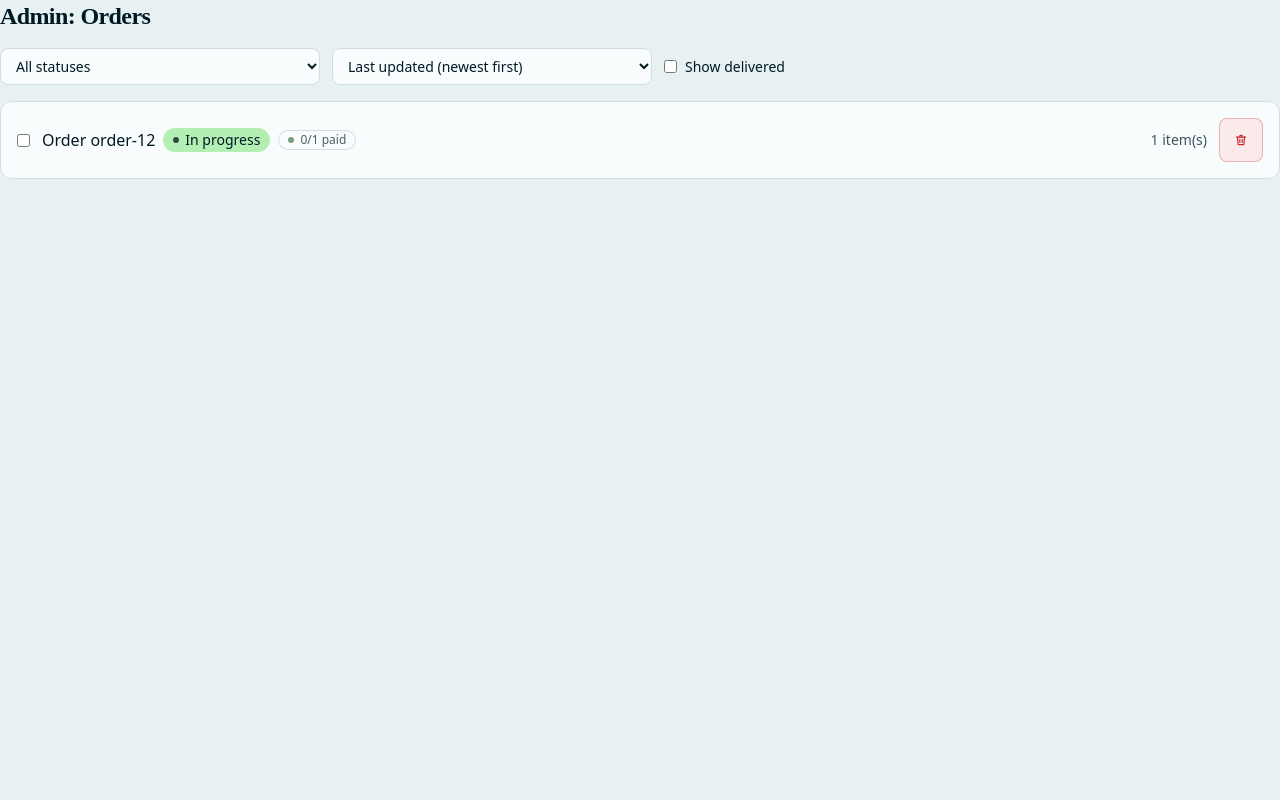
AdminOrdersPage › shows an error message when deleting an order fails
expect the link "Order order-12 In progress 0/1 paid" is shown: met, box [42,128,356,152]
What coordinates should you click on to do the following:
click the button named "Delete"
I would click on:
 (1241, 140)
Its box is [1219,118,1263,162].
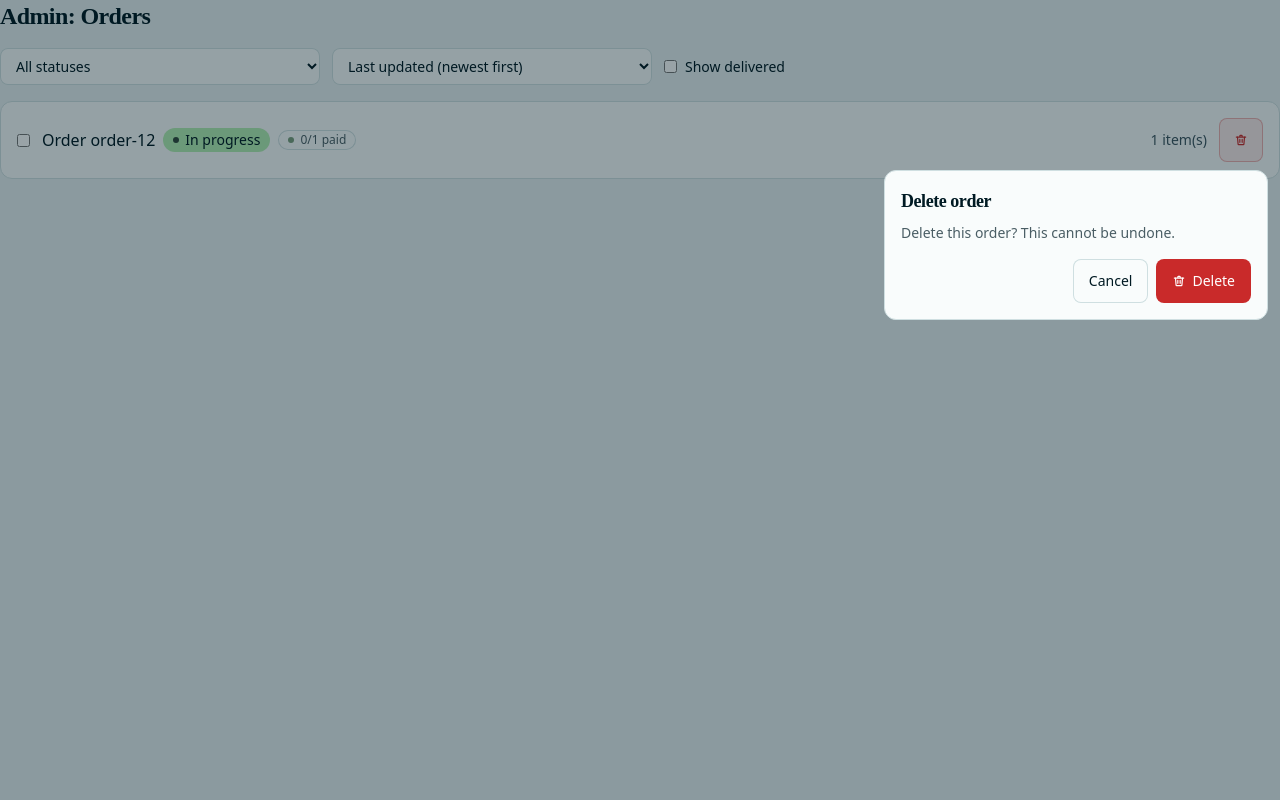
What coordinates should you click on to do the following:
click the button "Delete"
I would click on:
 (1204, 281)
Its box is [1156,259,1251,303].
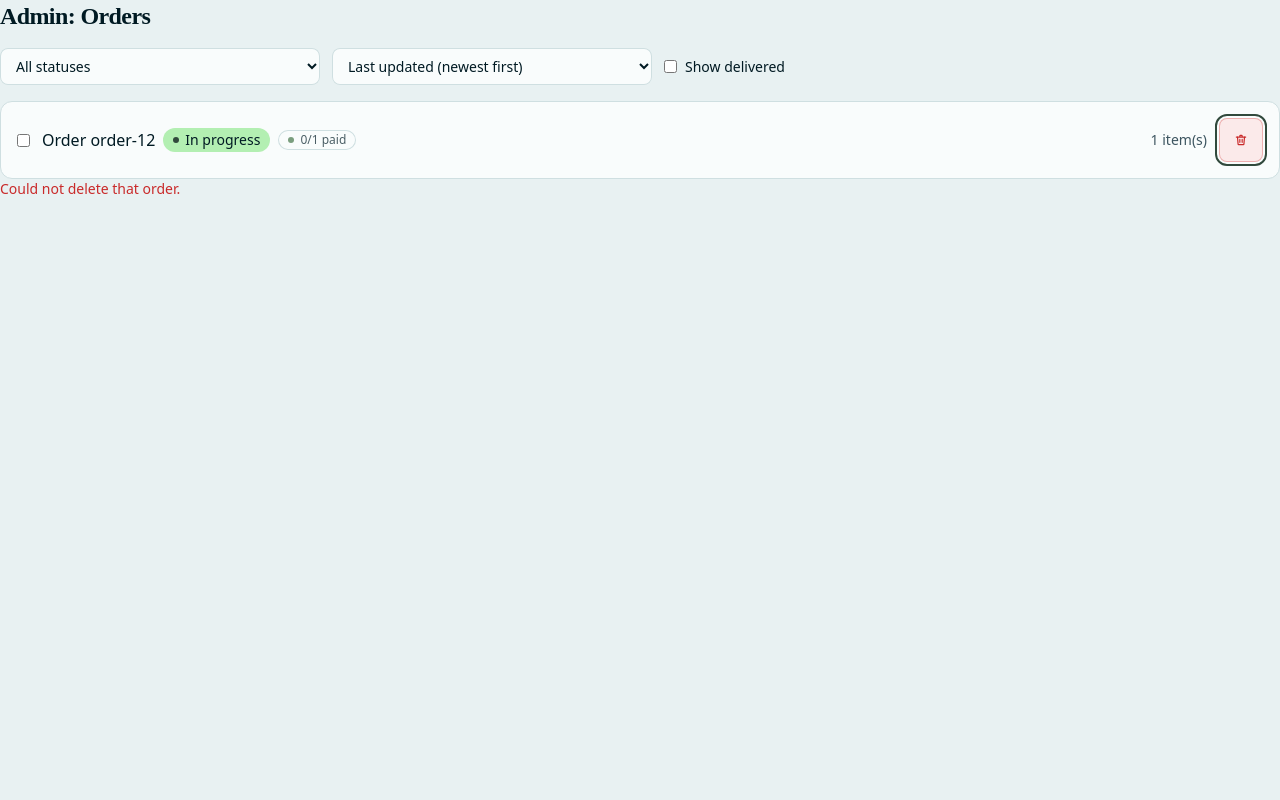
expect the text "Could not delete that order." is shown: met, box [0,179,180,198]
